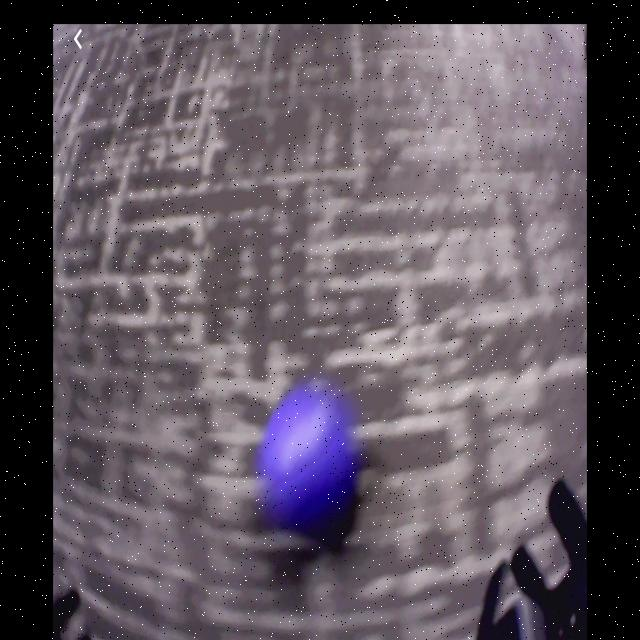ball: (268, 396, 356, 530)
